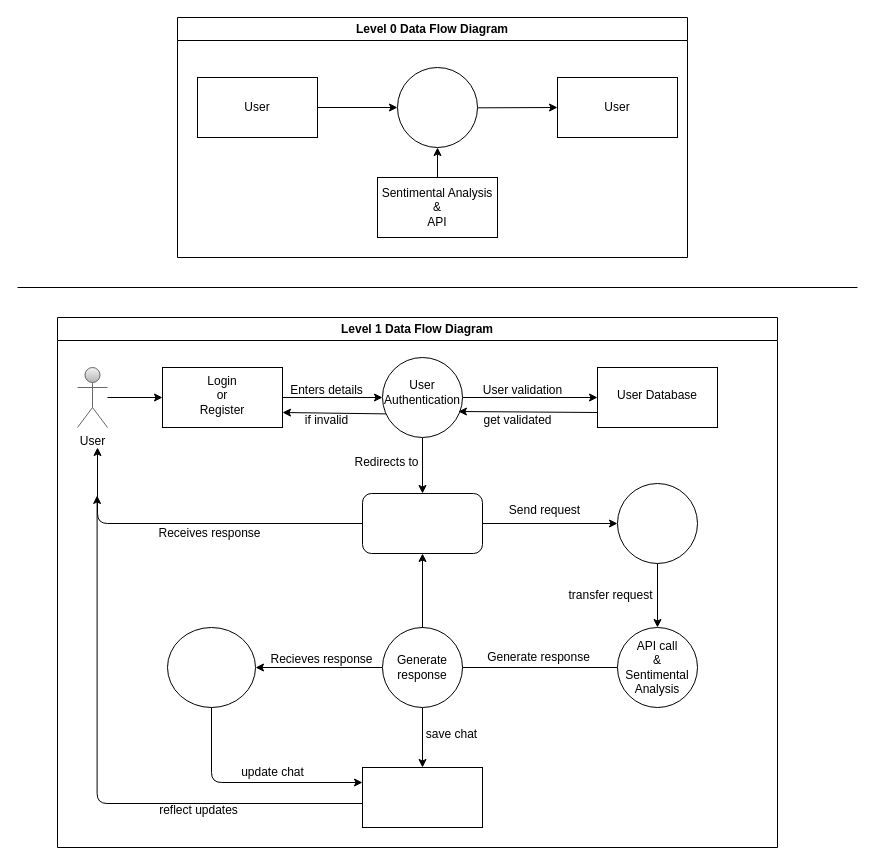
This 876x865 diagram has some shape labels left out. The centre of each missing label's shape, as x and y in pixels:
Chat History: the point at 422,797
Chatbot: the point at 437,107
Chatbot platform: the point at 422,523
Process Request: the point at 657,523
update history: the point at 211,667
